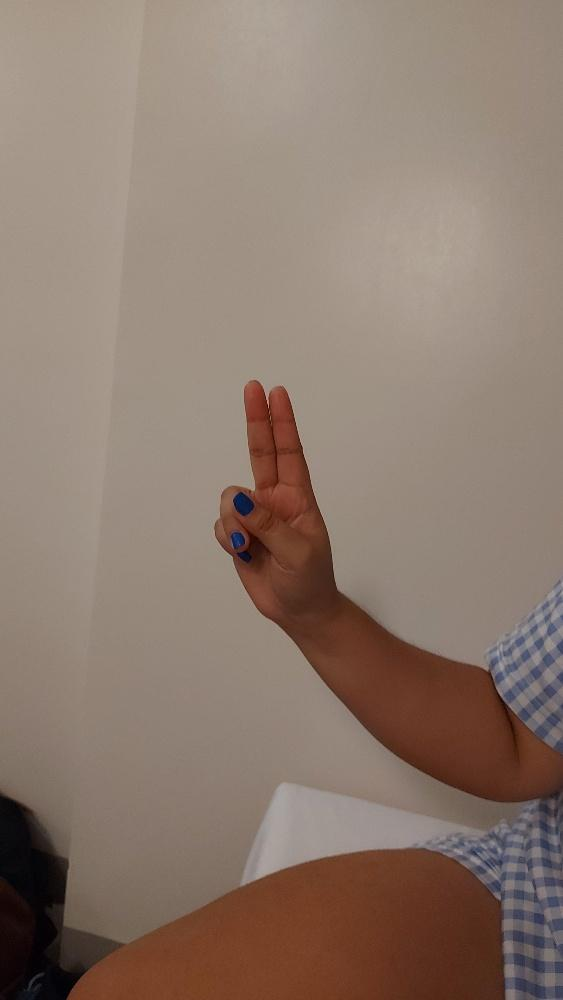u: (209, 374, 337, 626)
